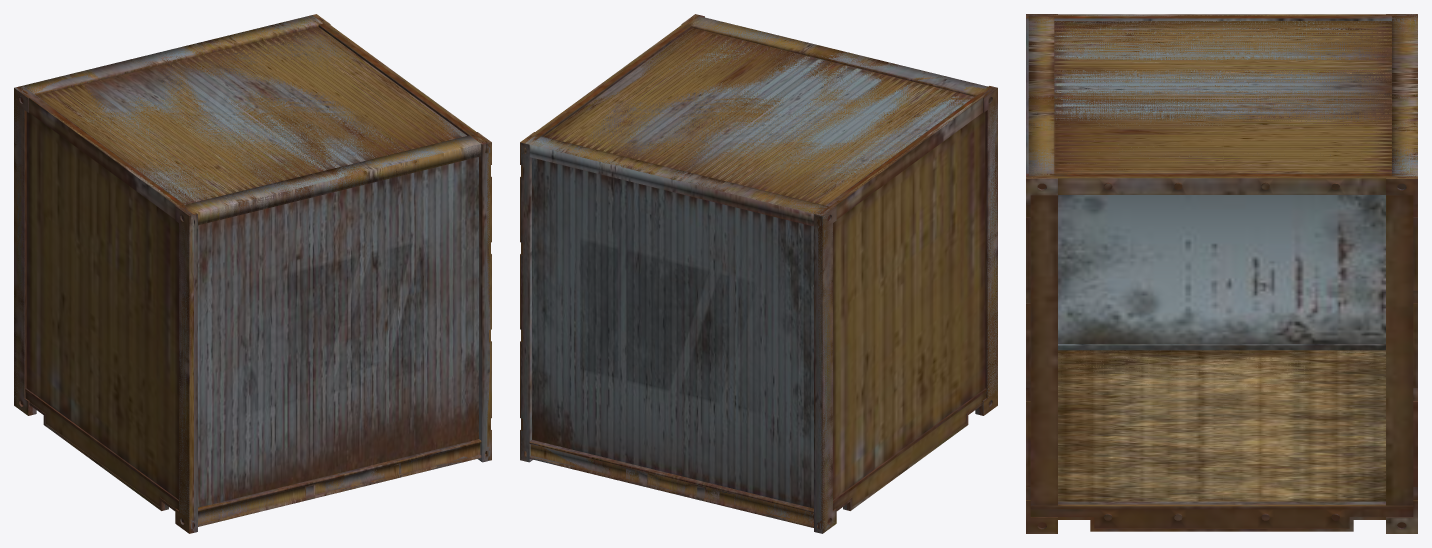
File: containers.glb
3 renders of one model, left to right at view 1: azimuth 30°, elevation 25°; view 2: azimuth 150°, elevation 25°; view 3: azimuth 270°, elevation 25°, orthographic. The views are drawn at different scales.
Bounding box in the file's own units: 1 × 1 × 1.
8 materials, 8 textured.
